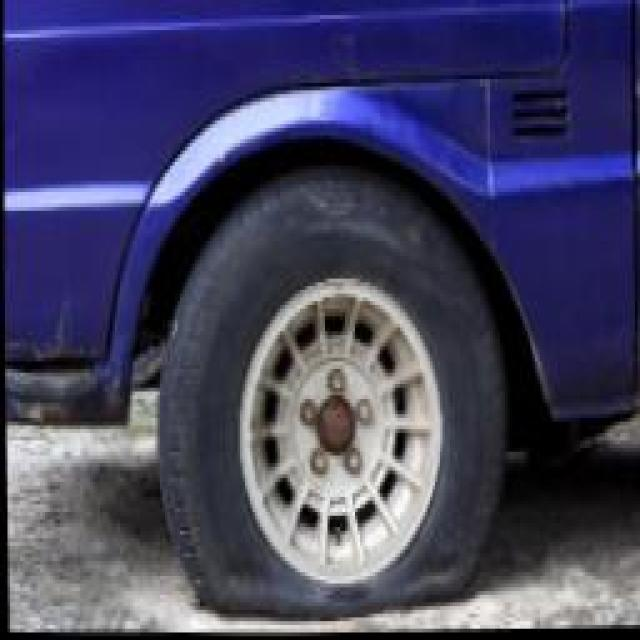Bumper: (2, 196, 160, 439)
Fender: (198, 41, 534, 209)
